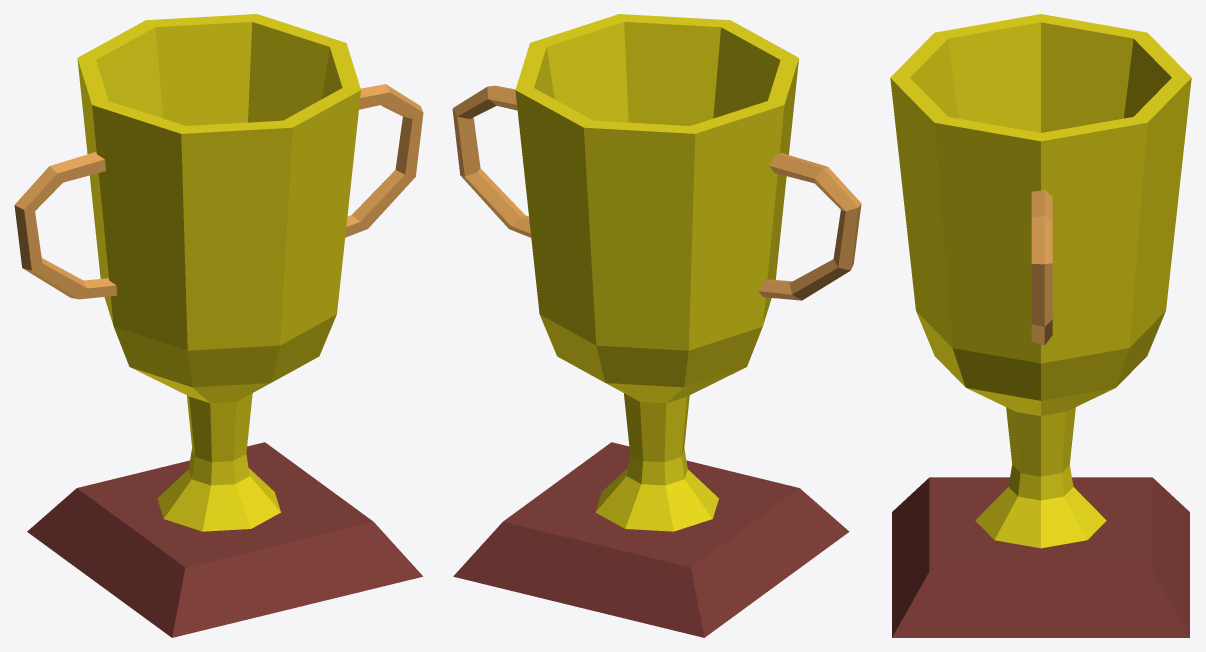
Rendered from jiangbei.glb.
3 views of the same model, side by side, from view 1: azimuth 30°, elevation 25°; view 2: azimuth 150°, elevation 25°; view 3: azimuth 270°, elevation 25° (orthographic). The views are drawn at different scales.
Visible parts, largest first — view 1: 柱体.011, 立方体, 柱体.012; view 2: 柱体.011, 立方体, 柱体.012; view 3: 柱体.011, 立方体, 柱体.012.
Part boxes in pixels (x1,y1,x2,y2): 柱体.011: (77, 14, 360, 531); 立方体: (27, 442, 422, 637); 柱体.012: (14, 84, 423, 299); 柱体.011: (515, 14, 798, 531); 立方体: (453, 442, 849, 637); 柱体.012: (452, 85, 861, 300); 柱体.011: (890, 14, 1191, 548); 立方体: (892, 477, 1189, 637); 柱体.012: (1031, 189, 1052, 345).
Bounding box in the file's own units: 4.65 × 5.27 × 2.91.
